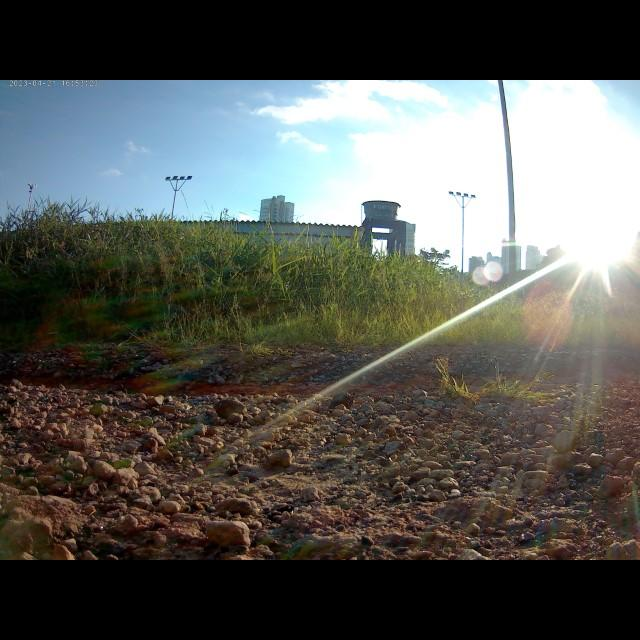ravina: (4, 356, 639, 404)
